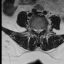CCS_stenosis: (37, 26, 39, 35)
LFS_normal: (41, 25, 43, 33)
LLS_normal: (39, 26, 41, 34)
RFS_normal: (32, 25, 35, 33)
RLS_normal: (35, 26, 37, 34)
